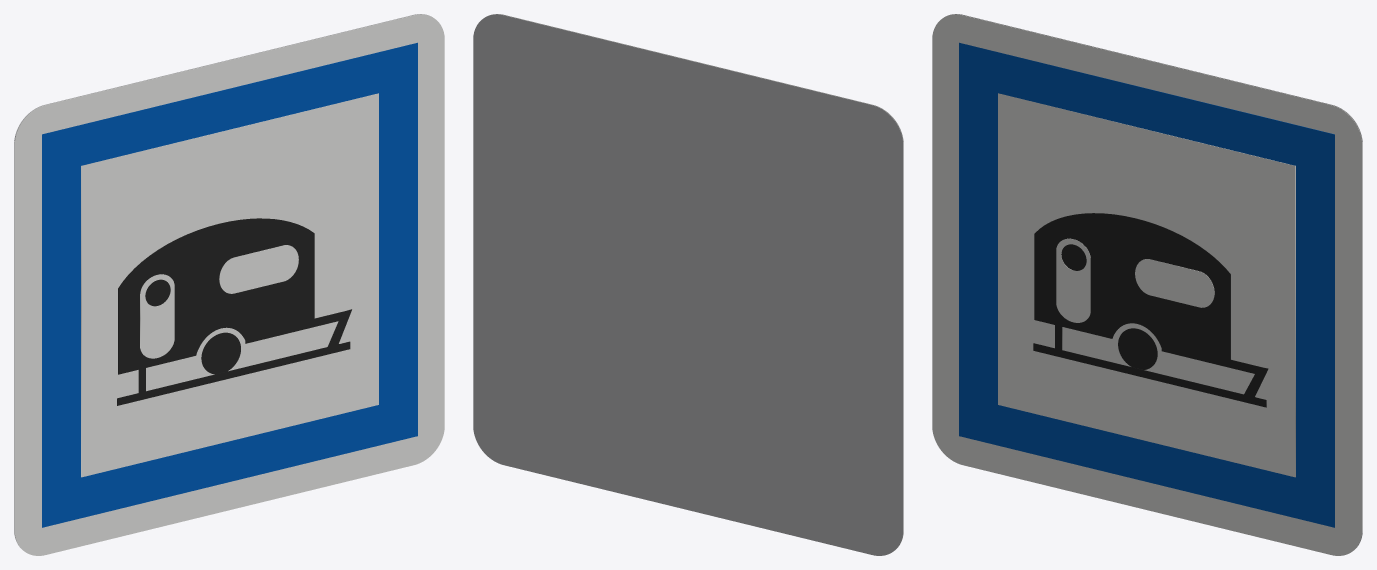
3 renders of one model, left to right at view 1: azimuth 30°, elevation 25°; view 2: azimuth 150°, elevation 25°; view 3: azimuth 330°, elevation 25°, orthographic.
Visible parts, largest first — view 1: CE4b_p02, CE4b_p01, CE4b_p00, CE4b_p04, CE4b_p06, CE4b_p05, CE4b_p03, CE4b_dos; view 2: CE4b_dos, CE4b_p00; view 3: CE4b_p02, CE4b_p01, CE4b_p00, CE4b_p04, CE4b_p06, CE4b_p05, CE4b_p03, CE4b_dos.
Part boxes in pixels (box(x1,y1,x2,y2)): CE4b_p02: box(81, 93, 378, 477); CE4b_p01: box(42, 42, 417, 527); CE4b_p00: box(14, 14, 444, 555); CE4b_p04: box(117, 218, 351, 405); CE4b_p06: box(219, 245, 298, 293); CE4b_p05: box(140, 274, 174, 358); CE4b_p03: box(201, 332, 240, 374); CE4b_dos: box(14, 14, 431, 547); CE4b_dos: box(473, 14, 903, 555); CE4b_p00: box(486, 14, 903, 547); CE4b_p02: box(998, 93, 1295, 477); CE4b_p01: box(959, 42, 1334, 527); CE4b_p00: box(932, 14, 1362, 555); CE4b_p04: box(1033, 213, 1268, 407); CE4b_p06: box(1135, 259, 1214, 307); CE4b_p05: box(1056, 238, 1090, 322); CE4b_p03: box(1118, 328, 1157, 369); CE4b_dos: box(945, 14, 1362, 547).
Size of the model in its own units: 0.7 by 0.6999 by 0.0043.
